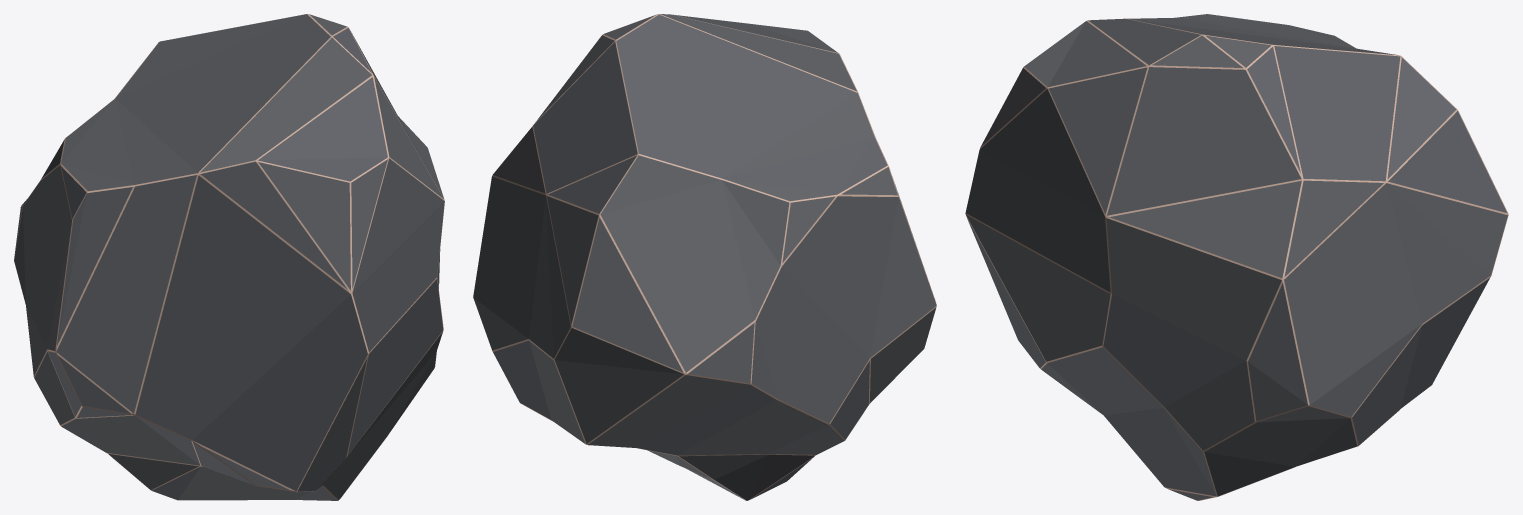
The model's file is batukecil5.fbx.
3 views of the same model, side by side, from view 1: azimuth 30°, elevation 25°; view 2: azimuth 150°, elevation 25°; view 3: azimuth 270°, elevation 25° (orthographic). The views are drawn at different scales.
Parts seen in each view (by area): view 1: Cube.052; view 2: Cube.052; view 3: Cube.052.
Part boxes in pixels (x1=…): Cube.052: x1=14, y1=14, x2=444, y2=500; Cube.052: x1=473, y1=14, x2=936, y2=500; Cube.052: x1=965, y1=14, x2=1508, y2=500.
Bounding box in the file's own units: 187 × 191 × 201.
